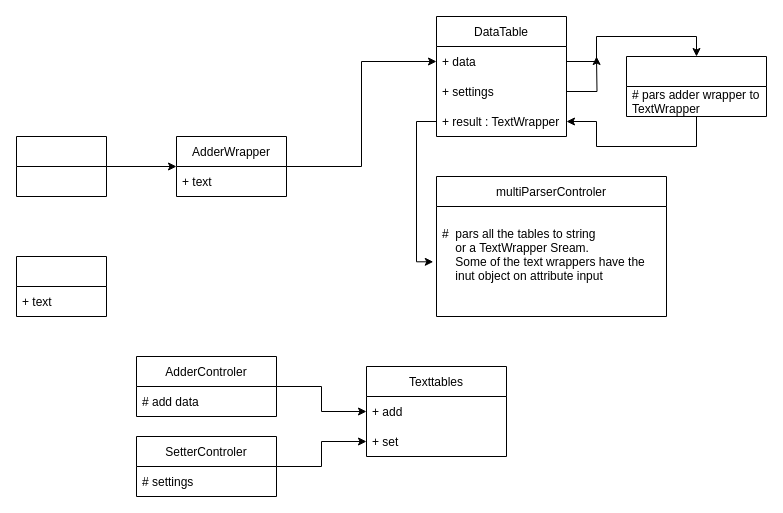
This 783x513 diagram has some shape labels left out. Each missing label, with the box of its shape:
Any: (16, 256, 106, 316)
OneParserControler: (626, 56, 766, 116)
Text: (16, 136, 106, 196)
